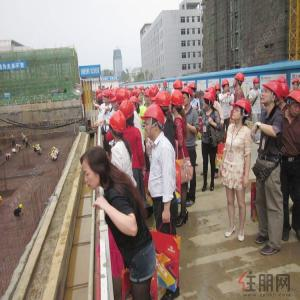none: (80, 147, 111, 193)
red: (142, 105, 165, 140), (262, 81, 282, 110), (232, 99, 253, 125), (109, 111, 127, 141), (170, 89, 185, 116), (121, 100, 136, 126), (156, 92, 171, 114), (289, 91, 300, 118), (203, 93, 216, 111), (234, 72, 246, 90), (183, 87, 193, 108), (111, 93, 121, 111), (150, 86, 160, 104), (130, 96, 140, 112), (103, 91, 111, 105), (215, 84, 223, 98), (222, 80, 230, 94), (145, 89, 152, 104), (190, 83, 197, 98), (136, 90, 144, 103), (254, 78, 261, 90), (293, 78, 300, 90), (142, 87, 146, 95)
yellow: (19, 204, 24, 212)
